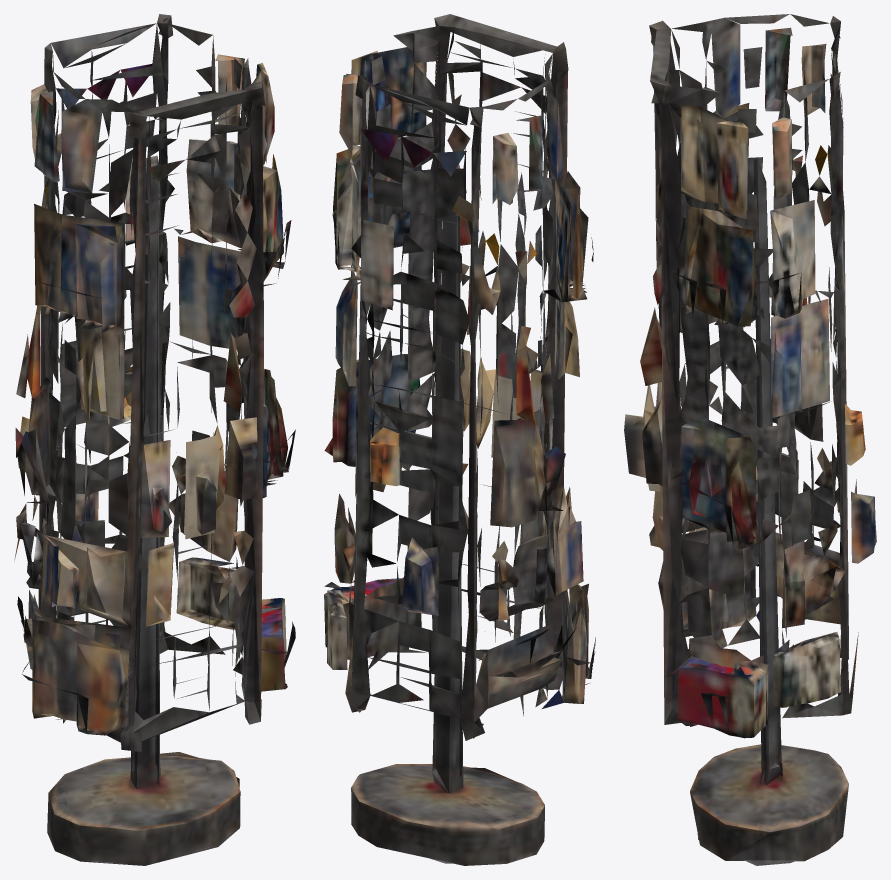
Rendered from p7-spinner-rack.glb.
3 views of the same model, side by side, from view 1: azimuth 30°, elevation 25°; view 2: azimuth 150°, elevation 25°; view 3: azimuth 270°, elevation 25° (orthographic).
Visible parts, largest first — view 1: p7-spinner-rack; view 2: p7-spinner-rack; view 3: p7-spinner-rack.
Boxes of the visible parts, x1,y1,x2,y2 form: p7-spinner-rack: (14,14,295,865); p7-spinner-rack: (324,14,595,865); p7-spinner-rack: (624,14,876,865).
Bounding box in the file's own units: 0.6107 × 1.7 × 0.5.
1 material, 1 textured.
